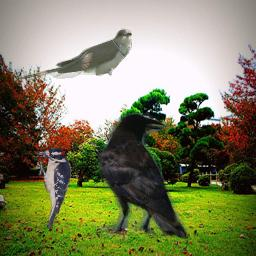Crow: (98, 113, 190, 243)
Cuckoo: (14, 28, 132, 82)
Woodpecker: (36, 146, 72, 229)
